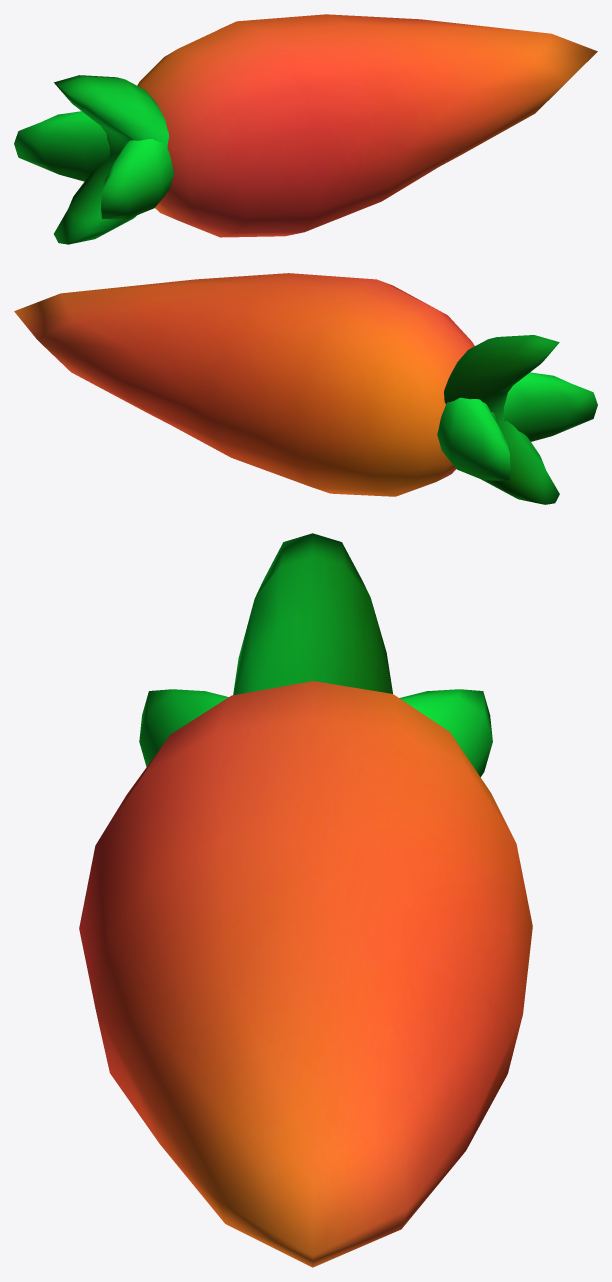
Rendered from PowerUp_Proyectil (3).fbx.
3 views of the same model, one above another, from view 1: azimuth 30°, elevation 25°; view 2: azimuth 150°, elevation 25°; view 3: azimuth 270°, elevation 25° (orthographic). The views are drawn at different scales.
Parts seen in each view (by area): view 1: Box001, Box002, Box003; view 2: Box001, Box002, Box003; view 3: Box001, Box003, Box002.
Boxes of the visible parts, bbox=[...] form: Box001: bbox=[137, 14, 597, 237]; Box002: bbox=[14, 111, 173, 219]; Box003: bbox=[54, 75, 168, 244]; Box001: bbox=[14, 273, 474, 496]; Box002: bbox=[437, 372, 597, 480]; Box003: bbox=[444, 335, 559, 504]; Box001: bbox=[79, 681, 532, 1267]; Box003: bbox=[233, 533, 392, 695]; Box002: bbox=[139, 689, 492, 777].
Bounding box in the file's own units: 17.22 × 6.27 × 5.85.
Materials: 1 (1 with a texture image).
